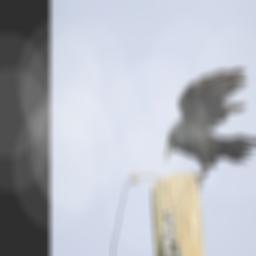Crow: (164, 67, 256, 188)
